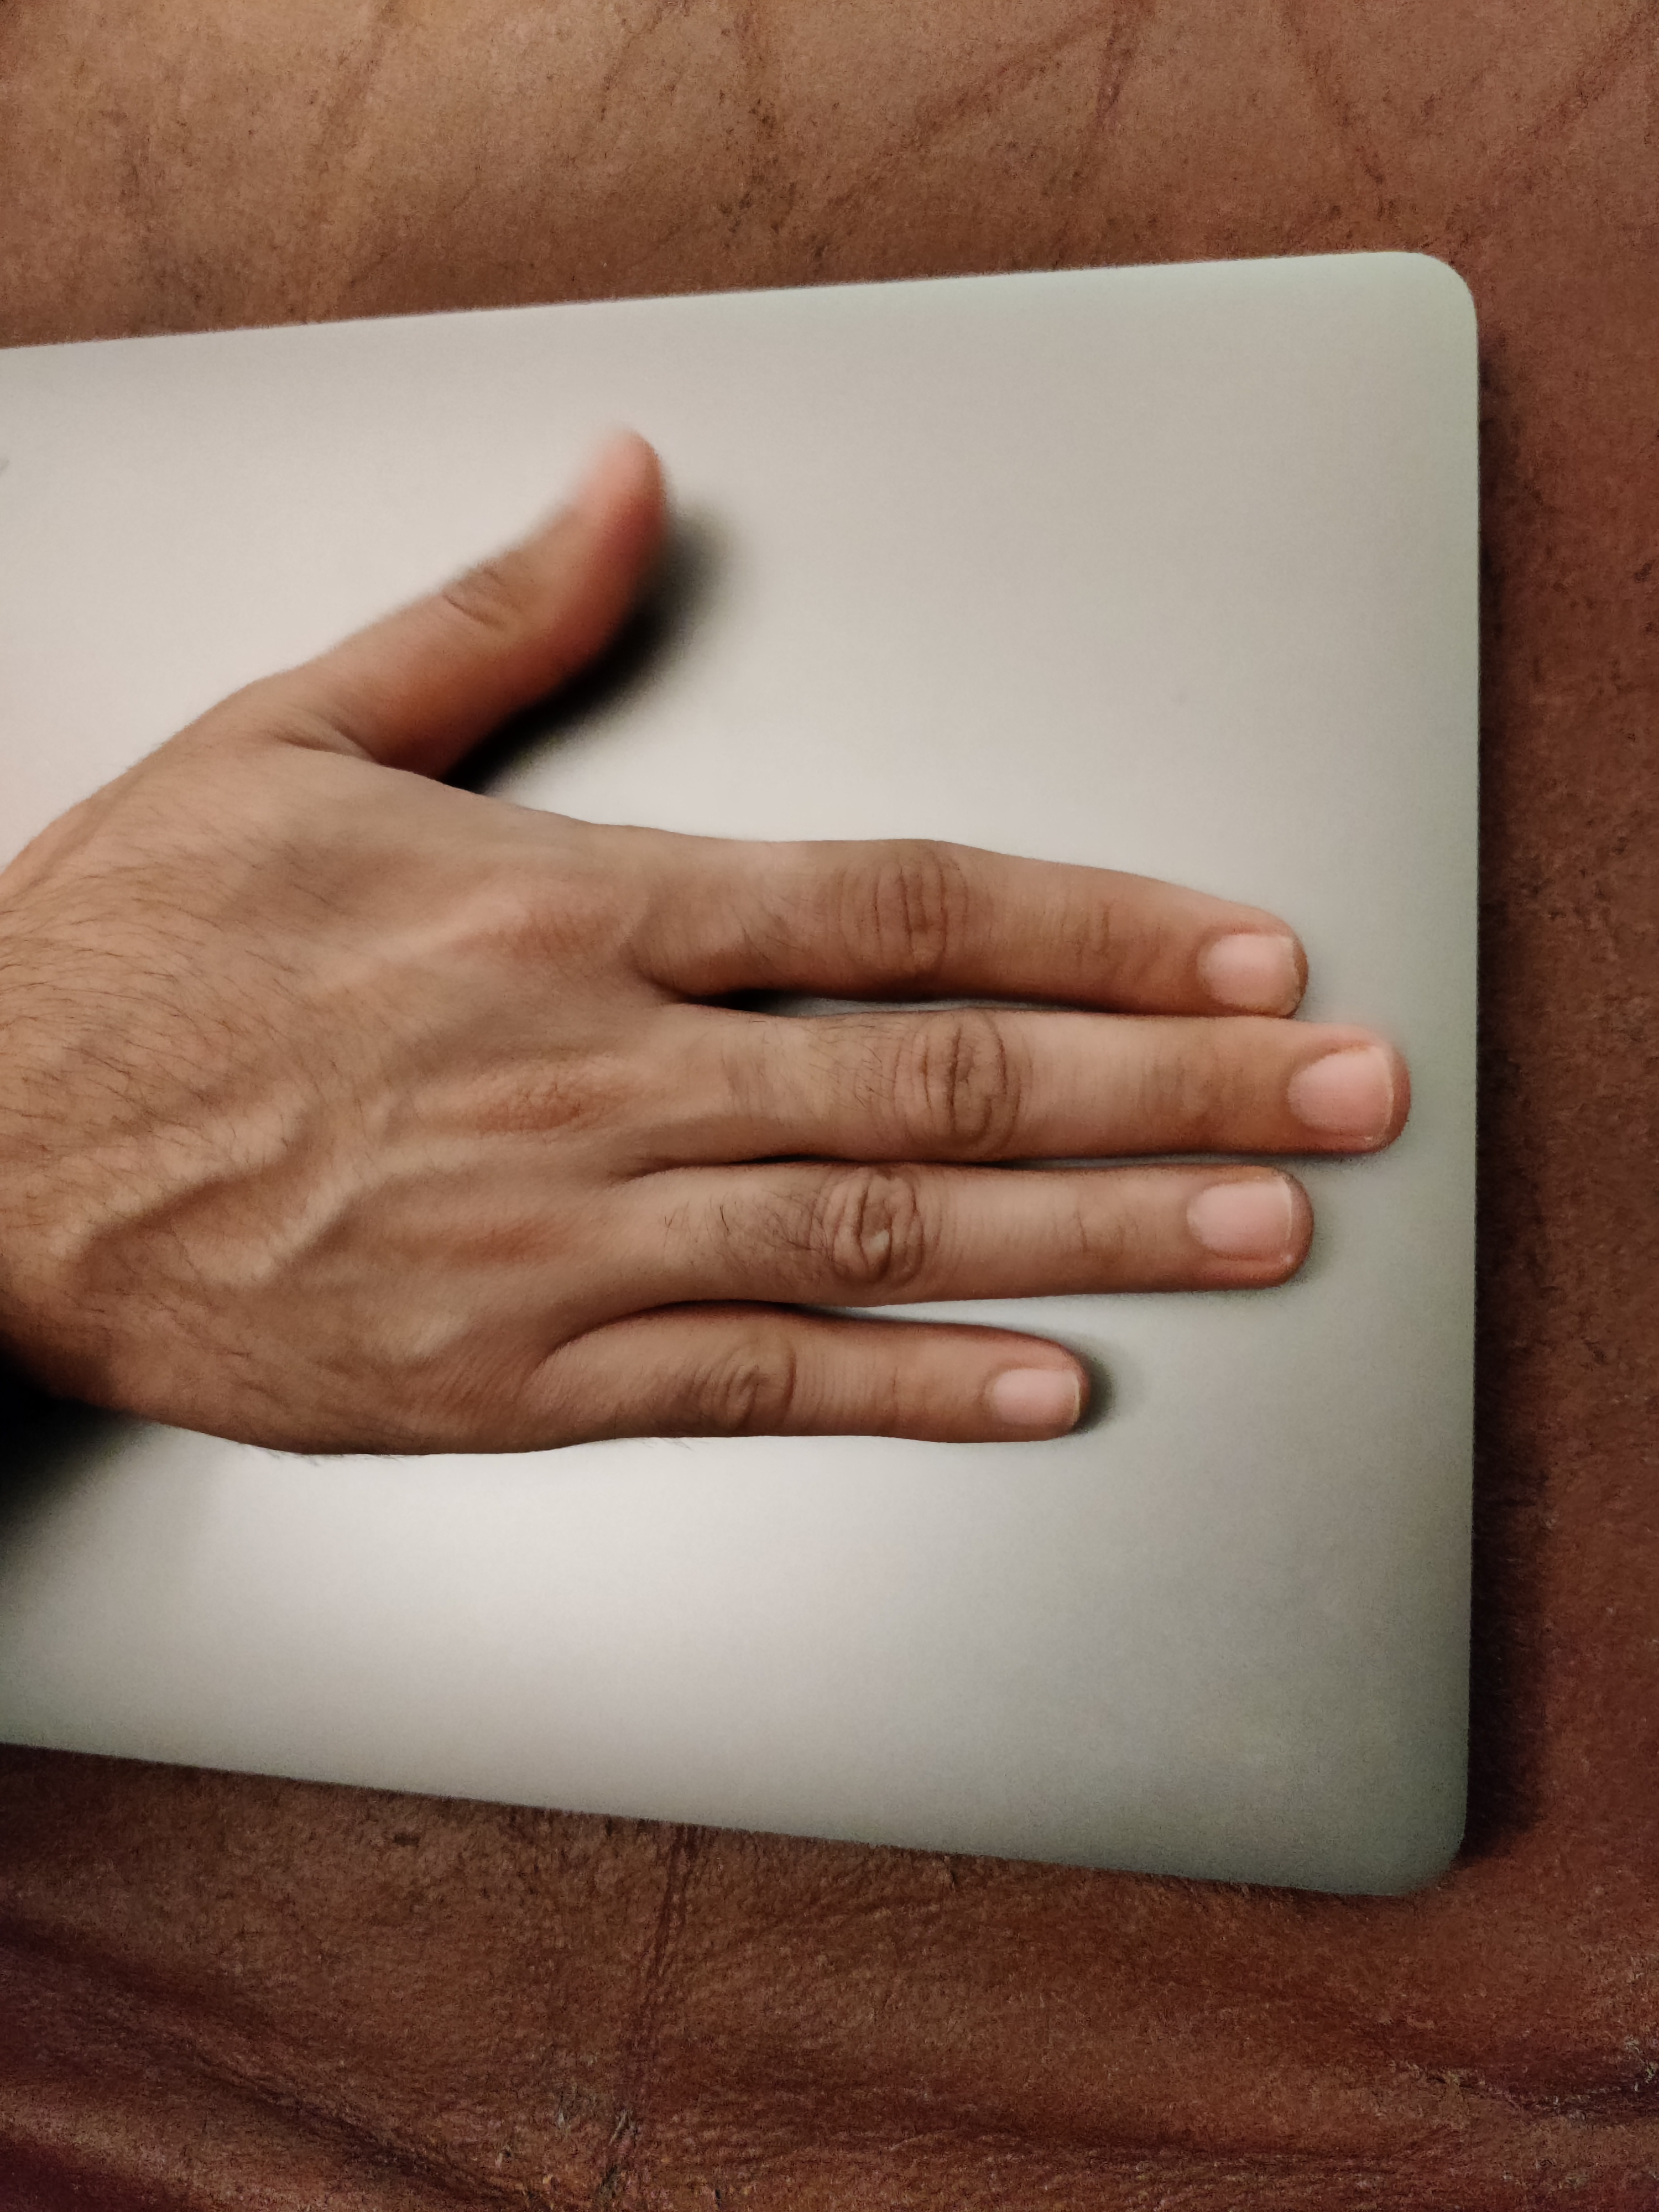left: (124, 284, 1527, 1649)
